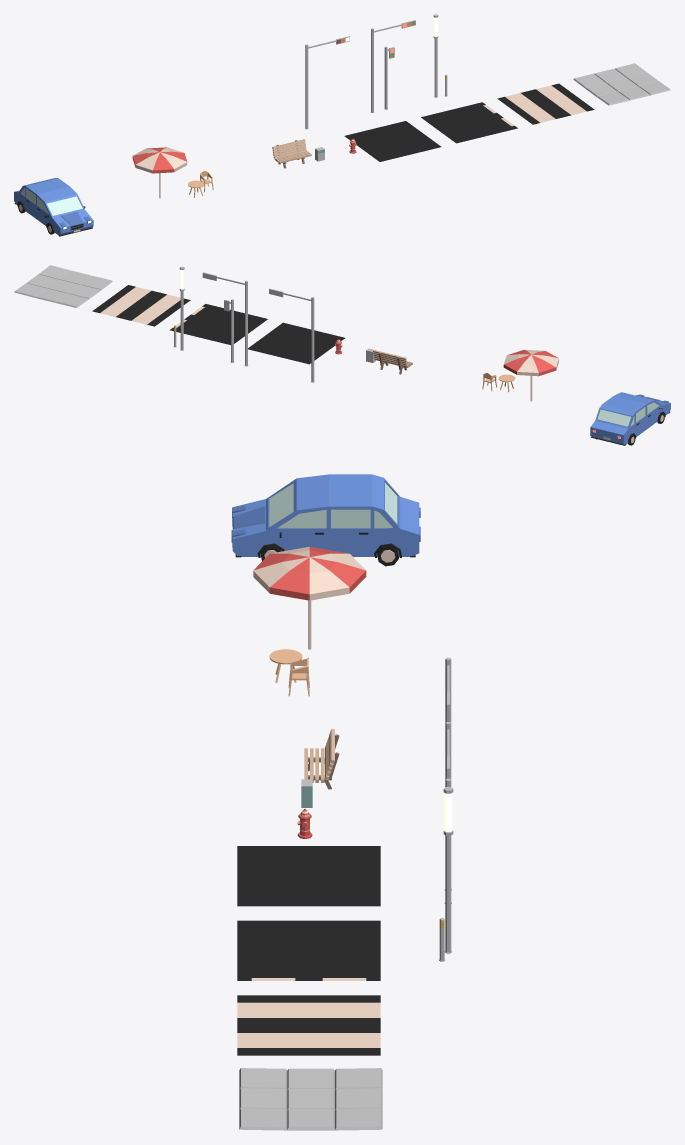
Rendered from City_Kivanc.fbx.
The picture shows the model from 3 angles, top to bottom: view 1: azimuth 30°, elevation 25°; view 2: azimuth 150°, elevation 25°; view 3: azimuth 270°, elevation 25°; orthographic projection. The views are drawn at different scales.
Parts seen in each view (by area): view 1: blue_car, sidewalk, road_black_zebra_crossing, road, road_black, umbrella, bench, car_light_green, car_light_red, lantern; view 2: blue_car, sidewalk, road_black_zebra_crossing, road_black, road, umbrella, car_light_green, bench, car_light_red, lantern; view 3: blue_car, sidewalk, road, road_black, road_black_zebra_crossing, umbrella, lantern, bench.
Boxes of the visible parts, box(x1,y1,x2,y2) form: blue_car: box(14, 178, 93, 236); sidewalk: box(573, 63, 670, 105); road_black_zebra_crossing: box(497, 83, 594, 124); road: box(421, 102, 517, 143); road_black: box(344, 121, 441, 161); umbrella: box(132, 147, 187, 198); bench: box(272, 139, 311, 168); car_light_green: box(305, 36, 349, 129); car_light_red: box(370, 20, 415, 112); lantern: box(433, 14, 438, 97); blue_car: box(590, 392, 670, 445); sidewalk: box(14, 265, 112, 307); road_black_zebra_crossing: box(92, 285, 190, 326); road_black: box(248, 322, 344, 364); road: box(170, 304, 267, 344); umbrella: box(503, 349, 558, 401); car_light_green: box(269, 288, 314, 382); bench: box(373, 350, 412, 374); car_light_red: box(202, 272, 248, 366); lantern: box(179, 266, 184, 350); blue_car: box(231, 474, 420, 566); sidewalk: box(239, 1068, 382, 1130); road: box(237, 920, 380, 980); road_black: box(237, 846, 380, 906); road_black_zebra_crossing: box(237, 995, 380, 1055); umbrella: box(253, 546, 366, 649); lantern: box(443, 787, 453, 953); bench: box(304, 728, 339, 789).
Size of the model in its own units: 29.66 by 3.86 by 4.62.
